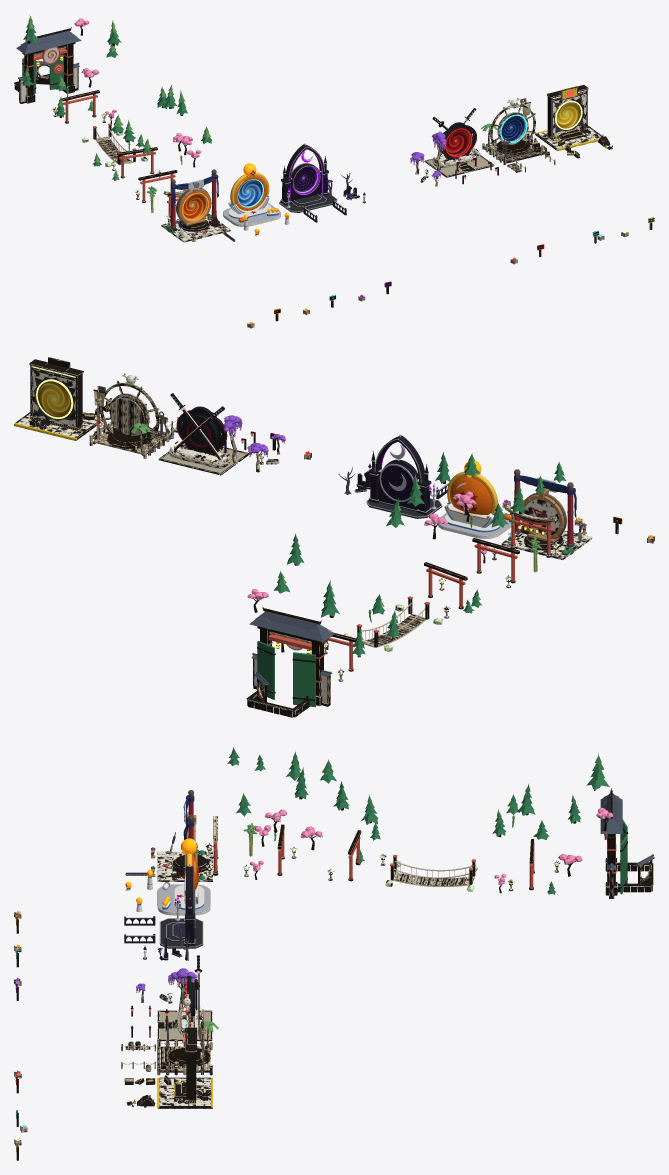
The model's file is LOBBY_06_PORTALS_dd376e.fbx.
3 renders of one model, top to bottom at view 1: azimuth 30°, elevation 25°; view 2: azimuth 150°, elevation 25°; view 3: azimuth 270°, elevation 25°, orthographic. The views are drawn at different scales.
Parts seen in each view (by area): view 1: KONOHA_Trees__Leaf_Pine, PORTAL_OnePunchMan_Wall__P_OPM_ConcreteLight, KONOHA_Great_Gate__Wood_Dark, KONOHA_Trees__Leaf_Pine_Light, PORTAL_ShadowGarden_MoonArch__P_SG_Obsidian, KONOHA_Great_Gate__P_Naruto_Tile, KONOHA_Pass_Decor__P_Naruto_Red, PORTAL_DemonSlayer_Tsuba__Stone_DS_Rock, PORTAL_OnePunchMan_Wall__P_OPM_ConcreteDark, PORTAL_DragonBall_Frame__P_DB_White, PORTAL_ShadowGarden_MoonArch__P_OPM_Crater, PORTAL_OnePiece_Pier__Wood_Light (+13 smaller); view 2: KONOHA_Trees__Leaf_Pine, PORTAL_DemonSlayer_Tsuba__P_DS_Iron, KONOHA_Great_Gate__Leaf_Pine, PORTAL_OnePunchMan_Wall__P_OPM_ConcreteLight, PORTAL_OnePiece_Pier__Wood_Dark, KONOHA_Great_Gate__Wood_Dark, KONOHA_Pass_Decor__P_Naruto_Red, KONOHA_Great_Gate__P_Naruto_Tile, PORTAL_ShadowGarden_MoonArch__P_SG_Violet, PORTAL_ShadowGarden_MoonArch__P_SG_Obsidian, PORTAL_Naruto_Bandana__Stone_Dark_C, PORTAL_DragonBall_Frame__P_DB_Amber (+12 smaller); view 3: KONOHA_Trees__Leaf_Pine, PORTAL_OnePunchMan_Wall__P_OPM_ConcreteLight, KONOHA_Trees__Sakura_Pink, PORTAL_ShadowGarden_MoonArch__P_OPM_Crater, KONOHA_Great_Gate__P_Naruto_Tile, PORTAL_OnePiece_Pier__Wood_Dark, PORTAL_OnePunchMan_Wall__P_OPM_ConcreteDark, KONOHA_Great_Gate__Wood_Dark, KONOHA_Pass_Decor__P_Naruto_Red, PORTAL_DragonBall_Frame__P_DB_White, PORTAL_DemonSlayer_Tsuba__Stone_DS_Rock, PORTAL_DemonSlayer_Tsuba__P_DS_Gravel (+3 smaller).
Part boxes in pixels (left/top/right/bottom): KONOHA_Trees__Leaf_Pine: left=21, top=23, right=212, bottom=180; PORTAL_OnePunchMan_Wall__P_OPM_ConcreteLight: left=536, top=89, right=602, bottom=149; KONOHA_Great_Gate__Wood_Dark: left=19, top=27, right=78, bottom=101; KONOHA_Trees__Leaf_Pine_Light: left=24, top=15, right=210, bottom=197; PORTAL_ShadowGarden_MoonArch__P_SG_Obsidian: left=281, top=144, right=328, bottom=205; KONOHA_Great_Gate__P_Naruto_Tile: left=16, top=31, right=81, bottom=80; KONOHA_Pass_Decor__P_Naruto_Red: left=63, top=94, right=180, bottom=214; PORTAL_DemonSlayer_Tsuba__Stone_DS_Rock: left=424, top=147, right=494, bottom=177; PORTAL_OnePunchMan_Wall__P_OPM_ConcreteDark: left=535, top=85, right=597, bottom=150; PORTAL_DragonBall_Frame__P_DB_White: left=223, top=166, right=280, bottom=226; PORTAL_ShadowGarden_MoonArch__P_OPM_Crater: left=279, top=194, right=337, bottom=212; PORTAL_OnePiece_Pier__Wood_Light: left=490, top=102, right=535, bottom=149; KONOHA_Trees__Leaf_Pine: left=273, top=453, right=565, bottom=656; PORTAL_DemonSlayer_Tsuba__P_DS_Iron: left=170, top=393, right=227, bottom=459; KONOHA_Great_Gate__Leaf_Pine: left=257, top=641, right=315, bottom=707; PORTAL_OnePunchMan_Wall__P_OPM_ConcreteLight: left=15, top=364, right=102, bottom=439; PORTAL_OnePiece_Pier__Wood_Dark: left=93, top=386, right=183, bottom=458; KONOHA_Great_Gate__Wood_Dark: left=253, top=606, right=330, bottom=703; KONOHA_Pass_Decor__P_Naruto_Red: left=327, top=513, right=552, bottom=669; KONOHA_Great_Gate__P_Naruto_Tile: left=249, top=611, right=333, bottom=685; PORTAL_ShadowGarden_MoonArch__P_SG_Violet: left=371, top=462, right=437, bottom=509; PORTAL_ShadowGarden_MoonArch__P_SG_Obsidian: left=368, top=435, right=431, bottom=514; PORTAL_Naruto_Bandana__Stone_Dark_C: left=501, top=499, right=592, bottom=559; PORTAL_DragonBall_Frame__P_DB_Amber: left=447, top=476, right=510, bottom=520; KONOHA_Trees__Leaf_Pine: left=227, top=747, right=609, bottom=894; PORTAL_OnePunchMan_Wall__P_OPM_ConcreteLight: left=159, top=1051, right=210, bottom=1108; KONOHA_Trees__Sakura_Pink: left=249, top=807, right=613, bottom=884; PORTAL_ShadowGarden_MoonArch__P_OPM_Crater: left=160, top=918, right=203, bottom=948; KONOHA_Great_Gate__P_Naruto_Tile: left=600, top=793, right=654, bottom=869; PORTAL_OnePiece_Pier__Wood_Dark: left=121, top=1016, right=212, bottom=1075; PORTAL_OnePunchMan_Wall__P_OPM_ConcreteDark: left=158, top=1027, right=212, bottom=1108; KONOHA_Great_Gate__Wood_Dark: left=607, top=788, right=652, bottom=896; KONOHA_Pass_Decor__P_Naruto_Red: left=213, top=830, right=534, bottom=888; PORTAL_DragonBall_Frame__P_DB_White: left=157, top=840, right=210, bottom=915; PORTAL_DemonSlayer_Tsuba__Stone_DS_Rock: left=157, top=1005, right=212, bottom=1041; PORTAL_DemonSlayer_Tsuba__P_DS_Gravel: left=159, top=1009, right=210, bottom=1039.
Bounding box in the file's own units: 250 × 79.13 × 258.
56 materials, 10 textured.
